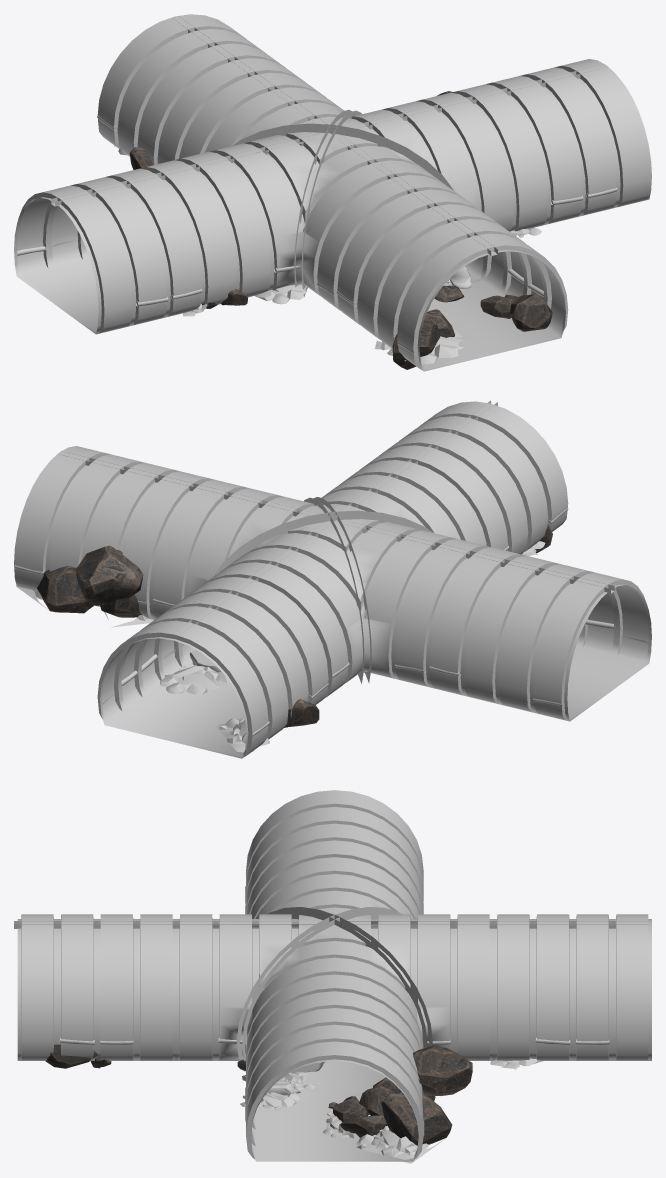
File: 4WayIntersection.DAE
The picture shows the model from 3 angles, top to bottom: view 1: azimuth 30°, elevation 25°; view 2: azimuth 150°, elevation 25°; view 3: azimuth 270°, elevation 25°; orthographic projection.
Visible parts, largest first — view 1: Shaft, Rocks, RockPile; view 2: Shaft, Rocks, RockPile; view 3: Shaft, Rocks, RockPile.
Boxes of the visible parts, left/top/right/bottom form: Shaft: left=14, top=14, right=651, bottom=371; Rocks: left=129, top=91, right=552, bottom=369; RockPile: left=114, top=145, right=541, bottom=364; Shaft: left=14, top=400, right=651, bottom=758; Rocks: left=37, top=524, right=552, bottom=727; RockPile: left=16, top=541, right=545, bottom=752; Shaft: left=14, top=790, right=651, bottom=1161; Rocks: left=45, top=1044, right=472, bottom=1145; RockPile: left=240, top=1058, right=543, bottom=1163.
Bounding box in the file's own units: 2019 × 2011 × 436.
